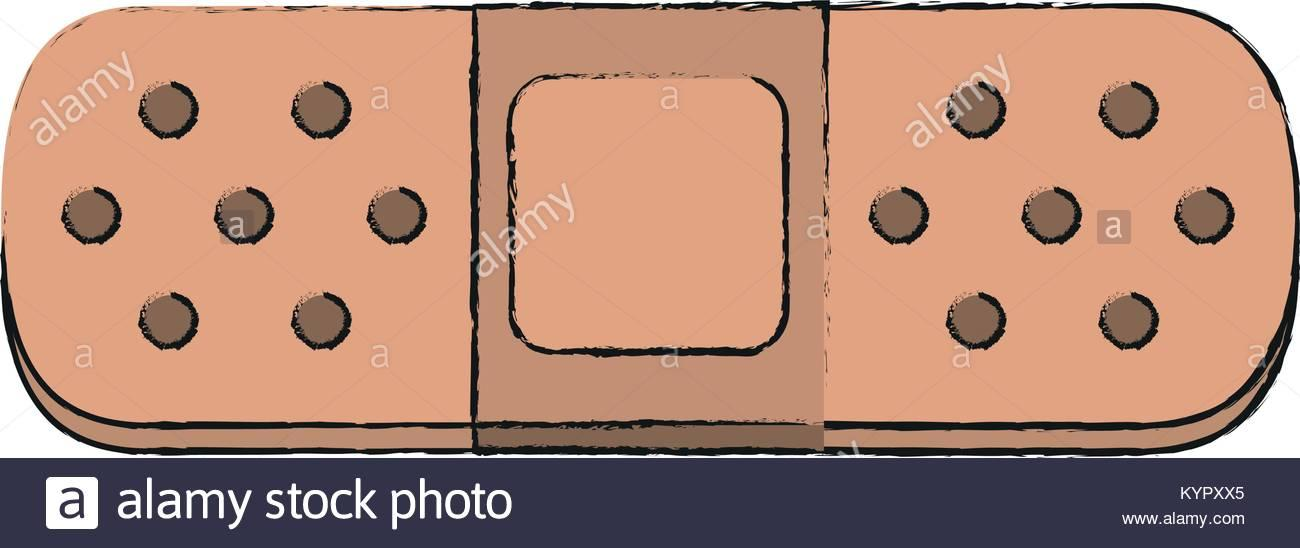bandage: (1, 0, 1300, 459)
